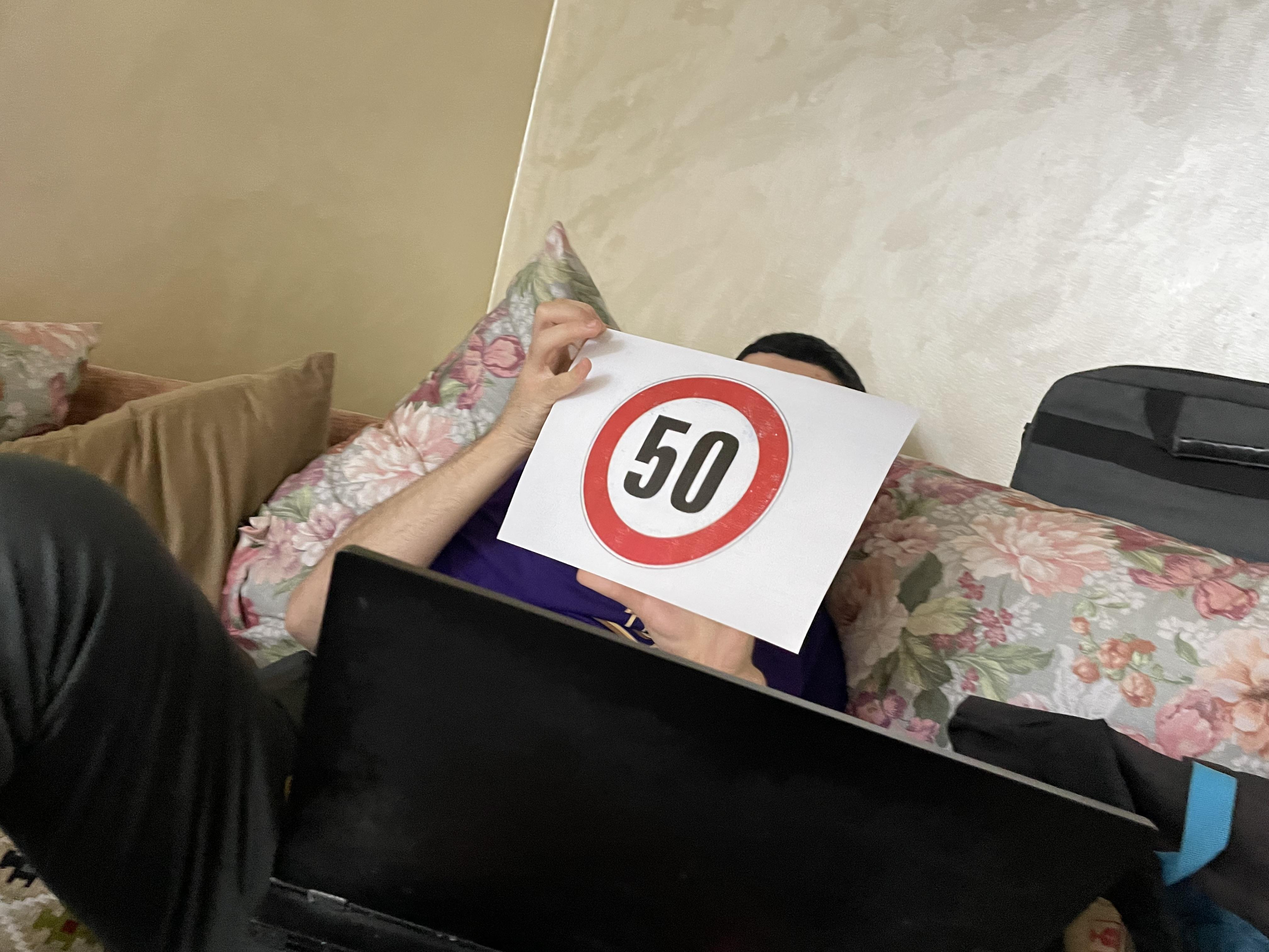50-Speed: (579, 375, 799, 568)
